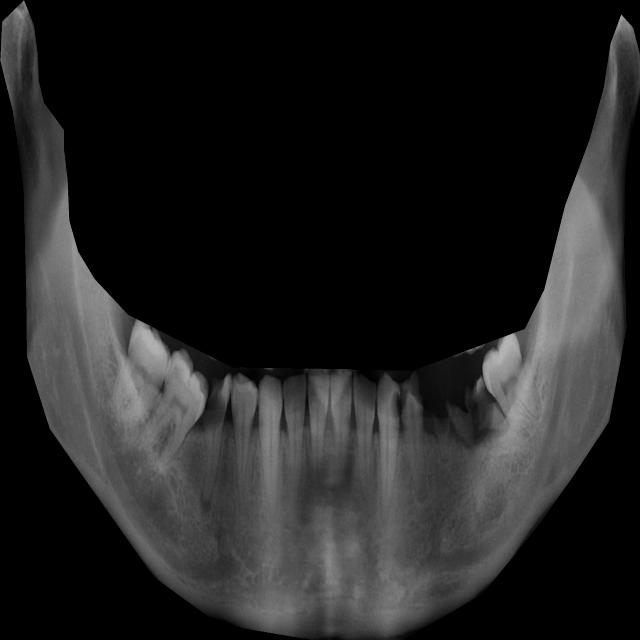mandibula: (0, 0, 640, 640)
